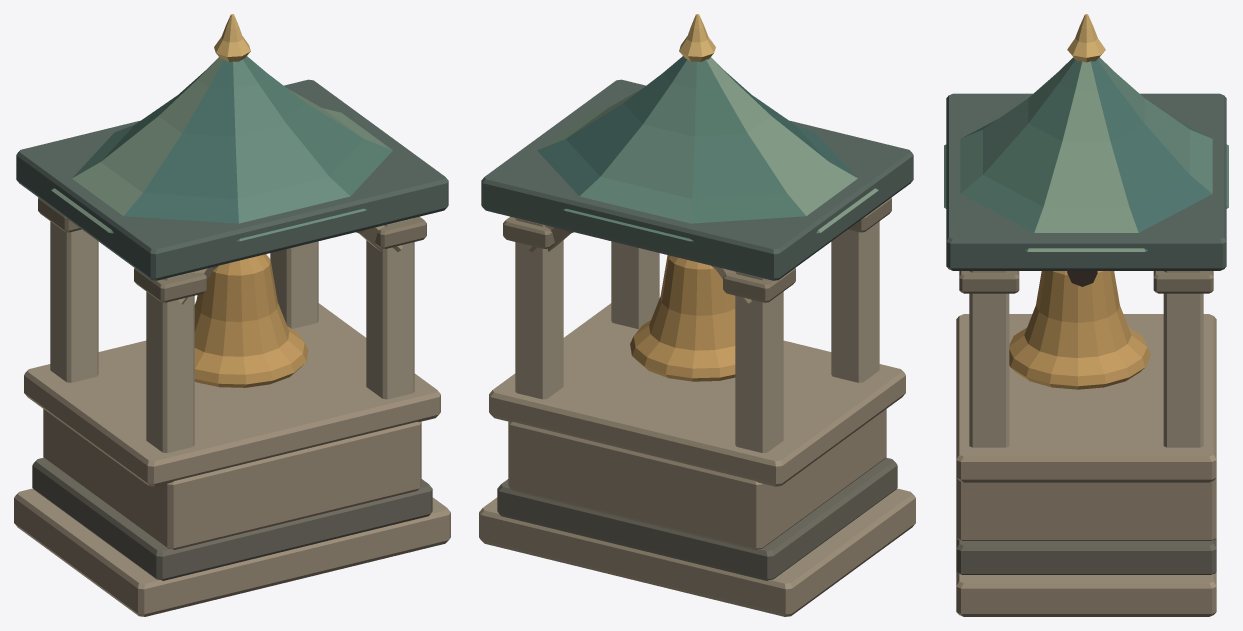
The model's file is gable_bell_lodge.glb.
3 renders of one model, left to right at view 1: azimuth 30°, elevation 25°; view 2: azimuth 150°, elevation 25°; view 3: azimuth 270°, elevation 25°, orthographic.
Parts seen in each view (by area): view 1: gable_bell_lodge; view 2: gable_bell_lodge; view 3: gable_bell_lodge.
Part boxes in pixels (left/top/right/bottom): gable_bell_lodge: left=14, top=14, right=450, bottom=616; gable_bell_lodge: left=479, top=14, right=915, bottom=616; gable_bell_lodge: left=944, top=14, right=1228, bottom=616.
Size of the model in its own units: 1.28 by 2.03 by 0.9963.
